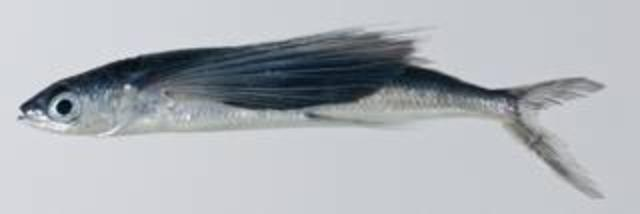Mulut: (6, 94, 44, 133)
Sirip Dada: (146, 20, 424, 116)
Sirip Ekor: (496, 72, 620, 208)
